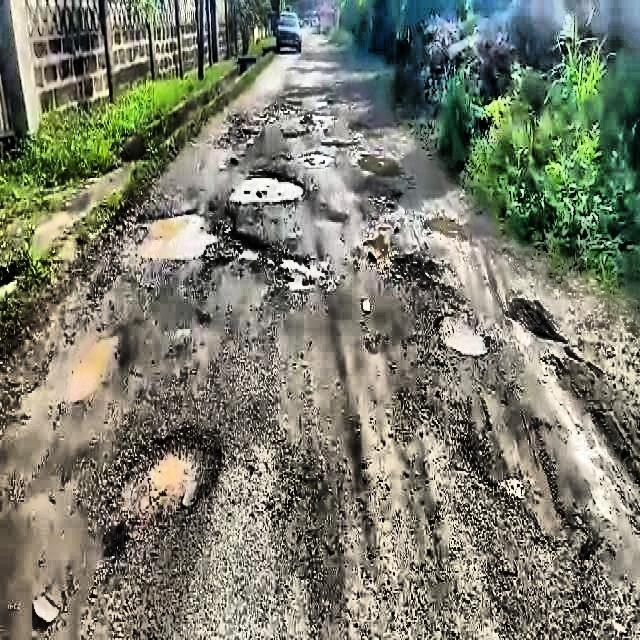buraco: (113, 424, 224, 536), (232, 232, 331, 290), (141, 208, 221, 264), (436, 308, 494, 356), (229, 169, 308, 203), (300, 150, 334, 165)
